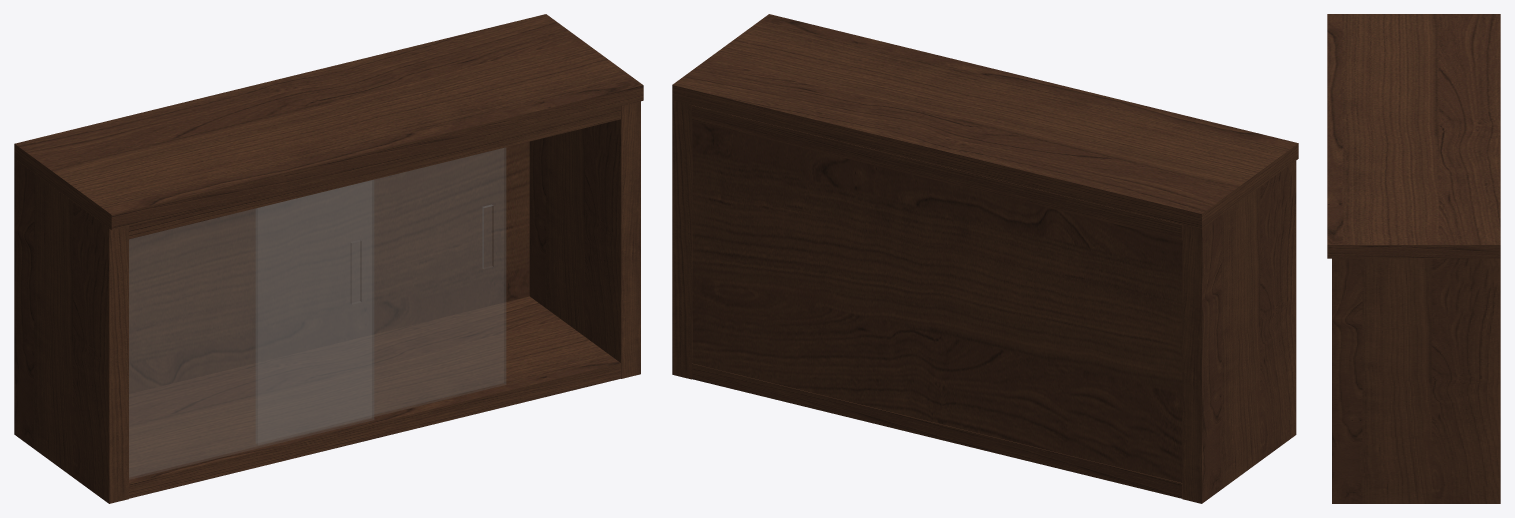
Rendered from Bookcase 2.FBX.
3 views of the same model, side by side, from view 1: azimuth 30°, elevation 25°; view 2: azimuth 150°, elevation 25°; view 3: azimuth 270°, elevation 25° (orthographic). The views are drawn at different scales.
Visible parts, largest first — view 1: bookcase 2, door A, door B; view 2: bookcase 2; view 3: bookcase 2.
Boxes of the visible parts, <box> form: bookcase 2: <box>14,14,643,503</box>; door A: <box>256,147,505,443</box>; door B: <box>129,180,373,479</box>; bookcase 2: <box>672,14,1298,503</box>; bookcase 2: <box>1327,14,1500,503</box>.
Bounding box in the file's own units: 108 × 56.5 × 34.26.
2 materials, 1 textured.
